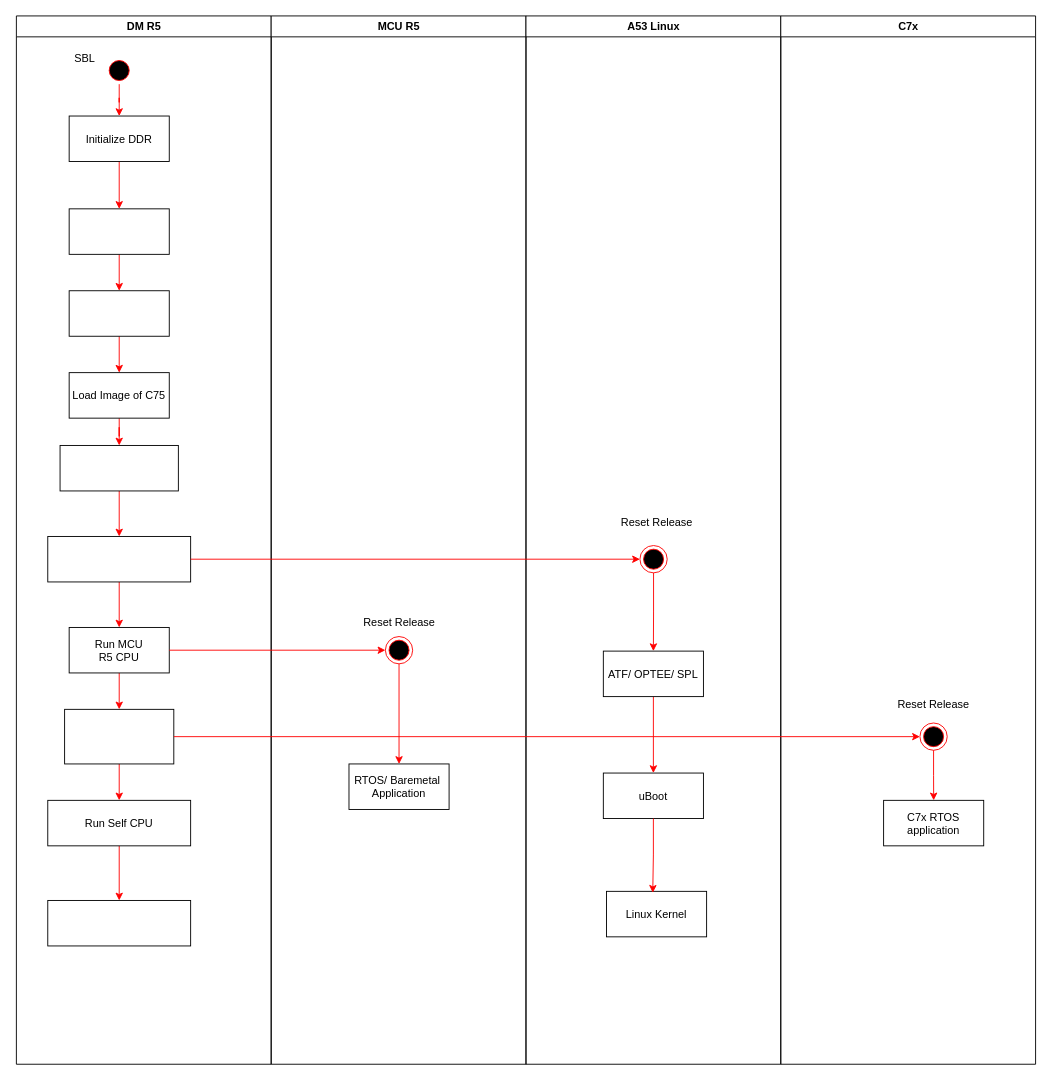
This 1051x1080 diagram has some shape labels left out. The shapes that lost their labels are listed below. From the top down, each one's box as (x1, y1, x2, y2) in pixels, then its label:
(68, 208, 169, 254): Load image of MCU M4
(68, 290, 169, 336): Self Load image of DM Firmware
(59, 445, 178, 491): Load Linux binaries (ATF,OPTEE,SPL)
(47, 536, 191, 582): Run Linux CPU (A53) (with encryption to ATF)
(64, 708, 174, 764): Run C75
(47, 900, 191, 946): DM Firmware Application
